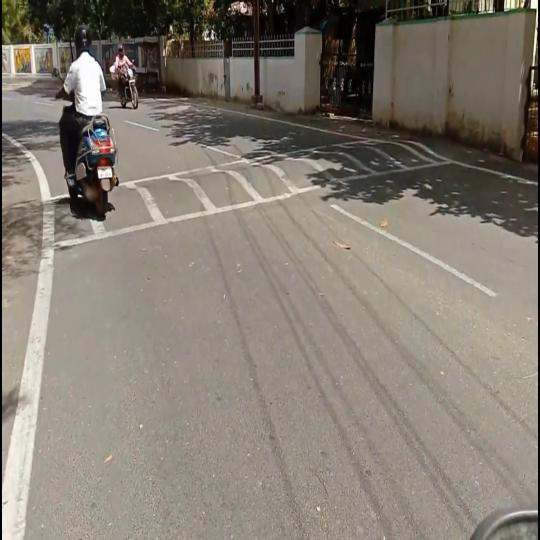Speed Bump: (120, 140, 452, 230), (2, 192, 83, 256)
